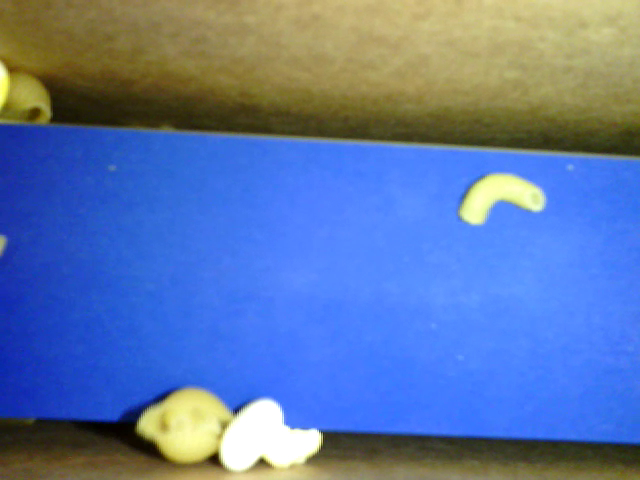elbow: (454, 174, 545, 229)
shell: (135, 386, 240, 468), (1, 71, 56, 127)
